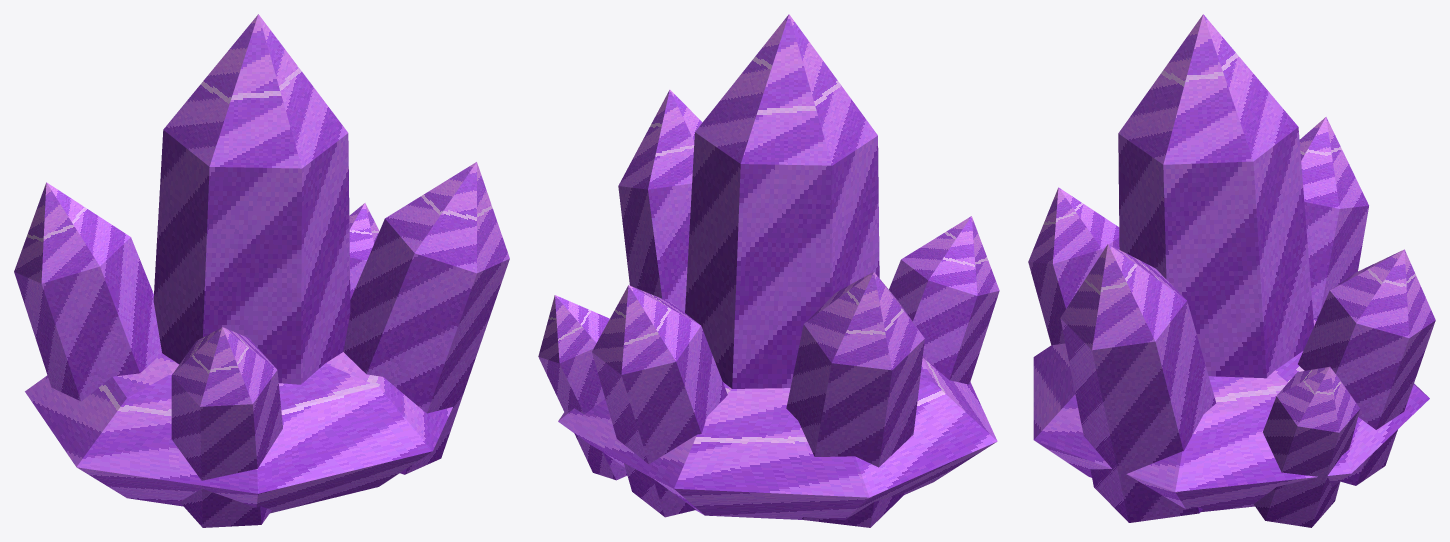
The model's file is ametista.glb.
3 renders of one model, left to right at view 1: azimuth 30°, elevation 25°; view 2: azimuth 150°, elevation 25°; view 3: azimuth 270°, elevation 25°, orthographic. The views are drawn at different scales.
Visible parts, largest first — view 1: ametista; view 2: ametista; view 3: ametista.
Part boxes in pixels (box(x1,y1,x2,y2)): ametista: box(14, 14, 509, 527); ametista: box(538, 14, 999, 527); ametista: box(1028, 14, 1435, 527).
Size of the model in its own units: 0.8816 by 0.9964 by 0.8114.
1 material, 1 textured.
